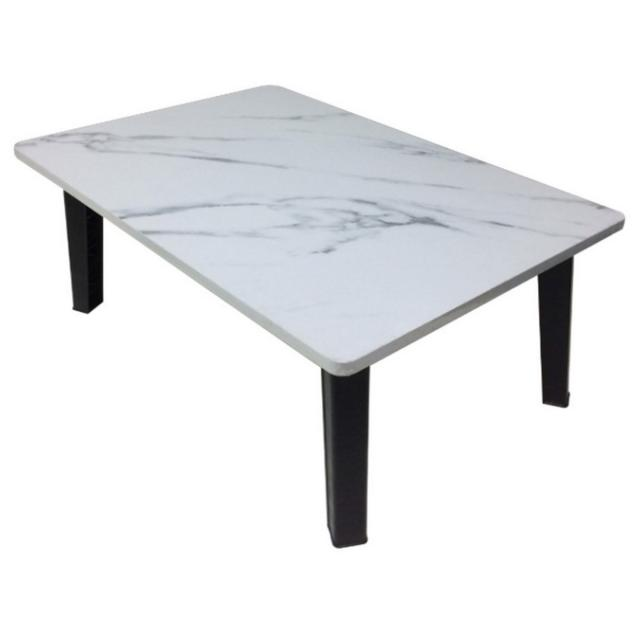table: (7, 80, 634, 602)
